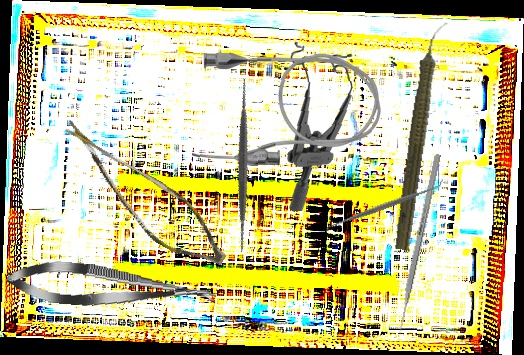Cannula: (190, 50, 382, 167)
Handpiece: (391, 19, 450, 252)
Micro Scissor: (36, 118, 247, 277), (5, 256, 218, 318)
Pusher: (394, 153, 441, 344)
Spatula Surgical: (151, 72, 336, 258), (321, 177, 448, 235)
Speculum: (277, 38, 364, 212)
